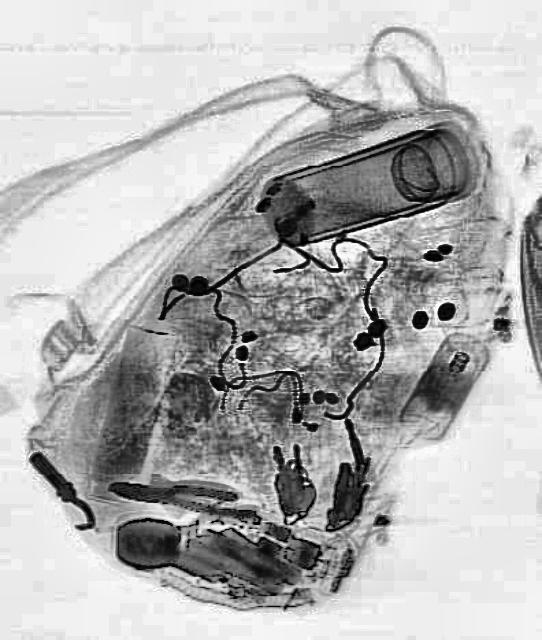Pliers: (108, 466, 264, 524)
